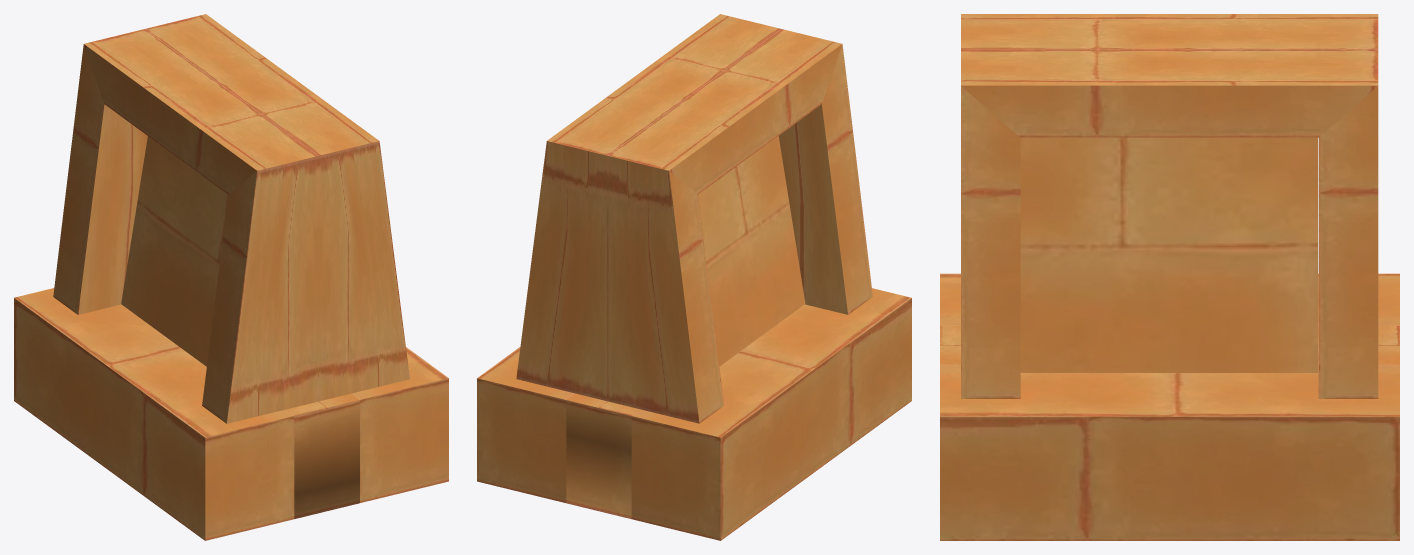
The model's file is pm-temple-embelisher-01.glb.
3 views of the same model, side by side, from view 1: azimuth 30°, elevation 25°; view 2: azimuth 150°, elevation 25°; view 3: azimuth 270°, elevation 25° (orthographic). The views are drawn at different scales.
Visible parts, largest first — view 1: TempleEmbelisher01_Art; view 2: TempleEmbelisher01_Art; view 3: TempleEmbelisher01_Art.
Boxes of the visible parts, bbox=[...] form: TempleEmbelisher01_Art: bbox=[14, 14, 448, 540]; TempleEmbelisher01_Art: bbox=[477, 14, 911, 540]; TempleEmbelisher01_Art: bbox=[940, 14, 1399, 540].
Bounding box in the file's own units: 5.29 × 7.23 × 7.18.
1 material, 1 textured.
